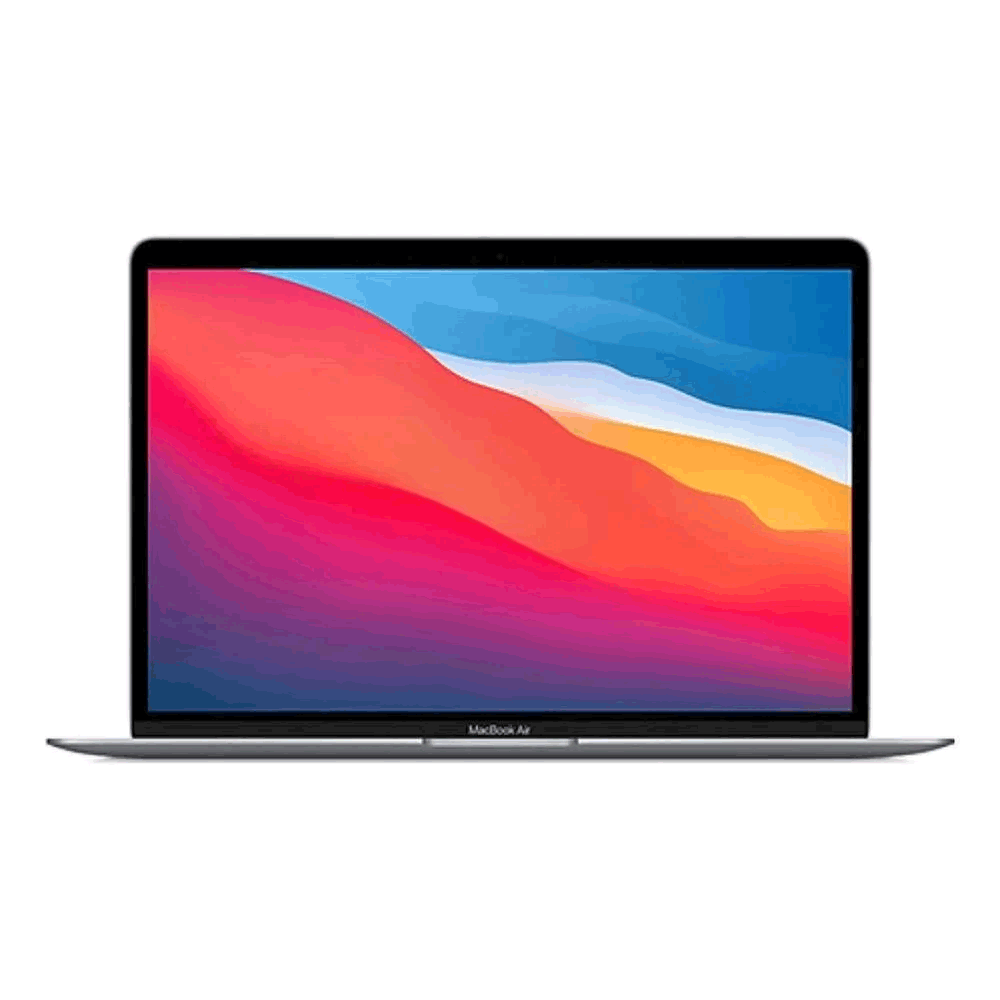laptop: (53, 199, 965, 771)
